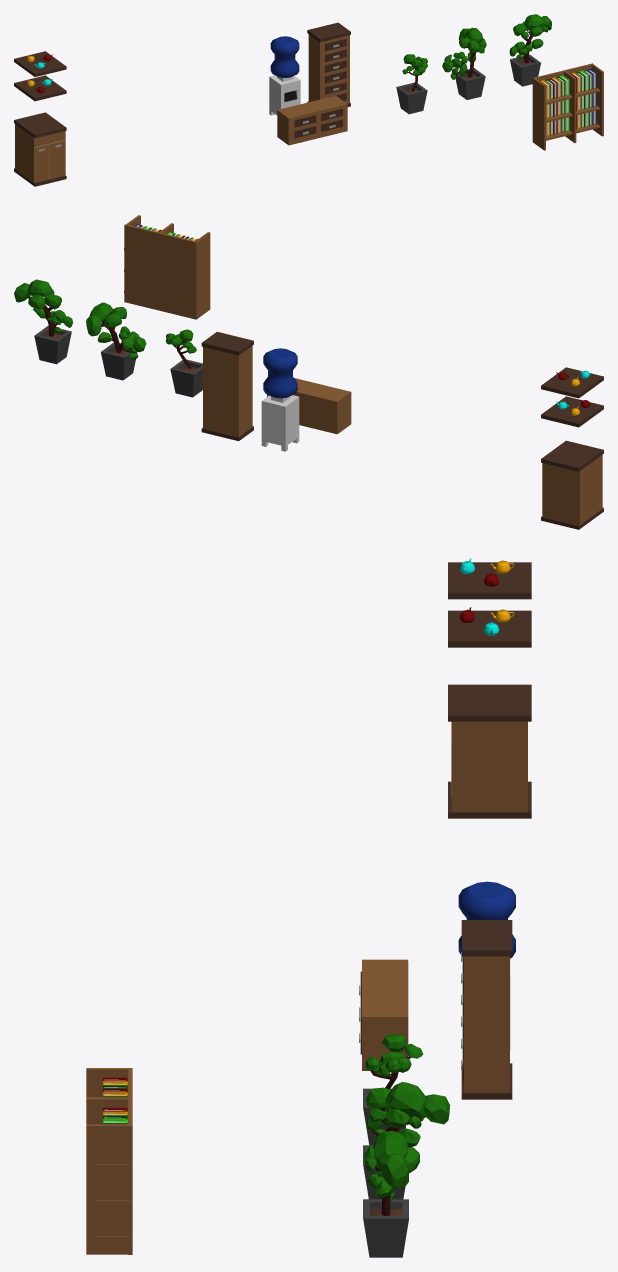
Rendered from Modele_02.FBX.
The picture shows the model from 3 angles, top to bottom: view 1: azimuth 30°, elevation 25°; view 2: azimuth 150°, elevation 25°; view 3: azimuth 270°, elevation 25°; orthographic projection. The views are drawn at different scales.
Parts seen in each view (by area): view 1: Office_Desk_025, Office_Desk_016, Office_Desk_019, Office_Desk_027, Office_Desk_026, Cylinder090, Box277, Office_Desk_006, Office_Desk_022, Cylinder087, Plant_03, Cylinder089 (+13 smaller); view 2: Office_Desk_004, Office_Desk_019, Office_Desk_025, Office_Desk_016, Office_Desk_027, Box277, Office_Desk_026, Cylinder090, Office_Desk_006, Cylinder087, Cylinder089, Office_Desk_024 (+5 smaller); view 3: Office_Desk_025, Office_Desk_019, Office_Desk_027, Office_Desk_007, Office_Desk_016, Office_Desk_026, Cylinder089, Cylinder087, Office_Desk_024, Plant_01, Cylinder090, Cylinder.003.
Part boxes in pixels (x1,y1,x2,y2): Office_Desk_025: [15, 124, 65, 182]; Office_Desk_016: [277, 95, 347, 145]; Office_Desk_019: [308, 34, 349, 103]; Office_Desk_027: [14, 51, 66, 101]; Office_Desk_026: [14, 112, 66, 186]; Cylinder090: [270, 36, 299, 77]; Box277: [269, 75, 300, 115]; Office_Desk_006: [532, 77, 545, 150]; Office_Desk_022: [325, 39, 346, 100]; Cylinder087: [513, 14, 551, 63]; Plant_03: [396, 82, 427, 114]; Cylinder089: [459, 27, 486, 77]; Office_Desk_004: [124, 224, 196, 319]; Office_Desk_019: [203, 346, 252, 436]; Office_Desk_025: [542, 454, 602, 525]; Office_Desk_016: [267, 378, 351, 434]; Office_Desk_027: [541, 367, 603, 427]; Box277: [261, 395, 299, 451]; Office_Desk_026: [541, 440, 603, 529]; Cylinder090: [263, 348, 297, 398]; Office_Desk_006: [195, 232, 210, 319]; Cylinder087: [14, 279, 61, 336]; Cylinder089: [86, 302, 126, 352]; Office_Desk_024: [201, 332, 253, 441]; Office_Desk_025: [451, 721, 527, 812]; Office_Desk_019: [464, 956, 509, 1092]; Office_Desk_027: [448, 562, 531, 647]; Office_Desk_007: [86, 1124, 131, 1254]; Office_Desk_016: [362, 959, 408, 1070]; Office_Desk_026: [448, 684, 531, 818]; Cylinder089: [366, 1082, 450, 1147]; Cylinder087: [363, 1131, 420, 1215]; Office_Desk_024: [461, 920, 512, 1099]; Plant_01: [363, 1199, 408, 1257]; Cylinder090: [458, 881, 515, 958]; Cylinder.003: [365, 1034, 423, 1089].
Bounding box in the file's own units: 10.12 × 3.87 × 2.27.
